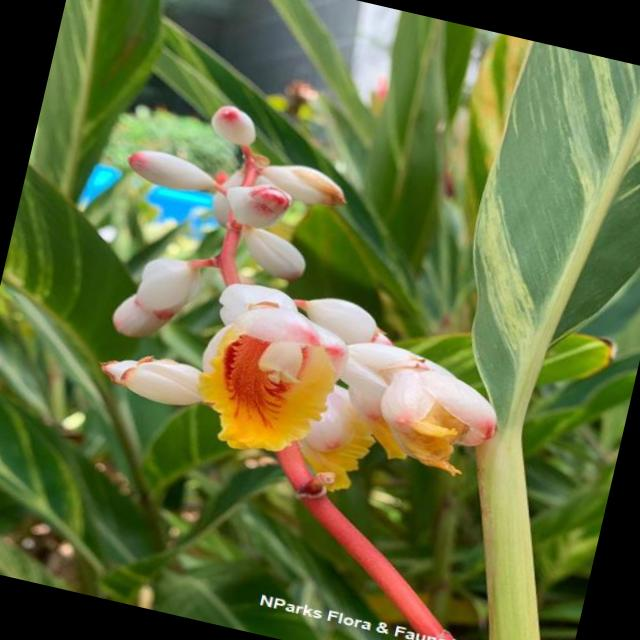Aquatic-Ginger: (59, 82, 554, 529)
